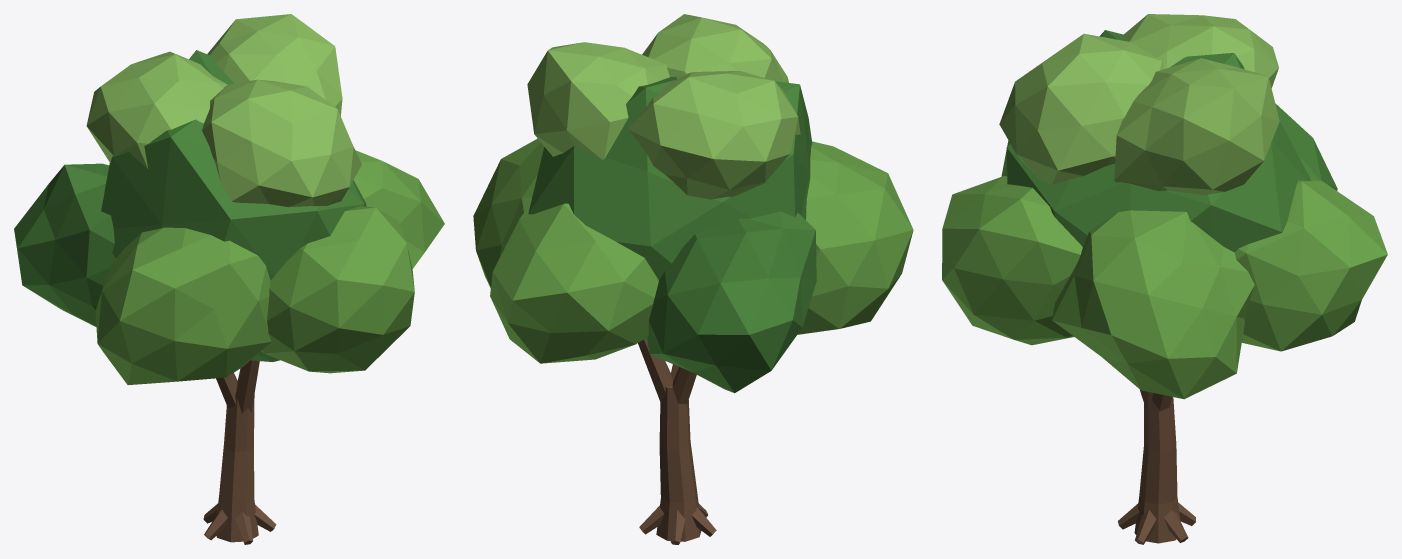
Rendered from street-tree.glb.
The picture shows the model from 3 angles, left to right: view 1: azimuth 30°, elevation 25°; view 2: azimuth 150°, elevation 25°; view 3: azimuth 270°, elevation 25°; orthographic projection. The views are drawn at different scales.
Visible parts, largest first — view 1: StreetTree_Leaves, StreetTree_LeavesLight, StreetTree_LeavesDark, StreetTree_Trunk; view 2: StreetTree_LeavesDark, StreetTree_Leaves, StreetTree_LeavesLight, StreetTree_Trunk; view 3: StreetTree_Leaves, StreetTree_LeavesLight, StreetTree_LeavesDark, StreetTree_Trunk.
Part boxes in pixels (<box>): StreetTree_Leaves: <box>95,150,444,384</box>; StreetTree_LeavesLight: <box>86,14,361,207</box>; StreetTree_LeavesDark: <box>14,50,366,361</box>; StreetTree_Trunk: <box>203,360,276,544</box>; StreetTree_LeavesDark: <box>528,76,816,393</box>; StreetTree_Leaves: <box>473,138,913,363</box>; StreetTree_LeavesLight: <box>527,14,800,199</box>; StreetTree_Trunk: <box>638,339,716,544</box>; StreetTree_Leaves: <box>942,140,1387,399</box>; StreetTree_LeavesLight: <box>999,14,1279,195</box>; StreetTree_LeavesDark: <box>1006,30,1337,339</box>; StreetTree_Trunk: <box>1118,389,1195,544</box>.
Size of the model in its own units: 24.1 by 29.57 by 24.3.
